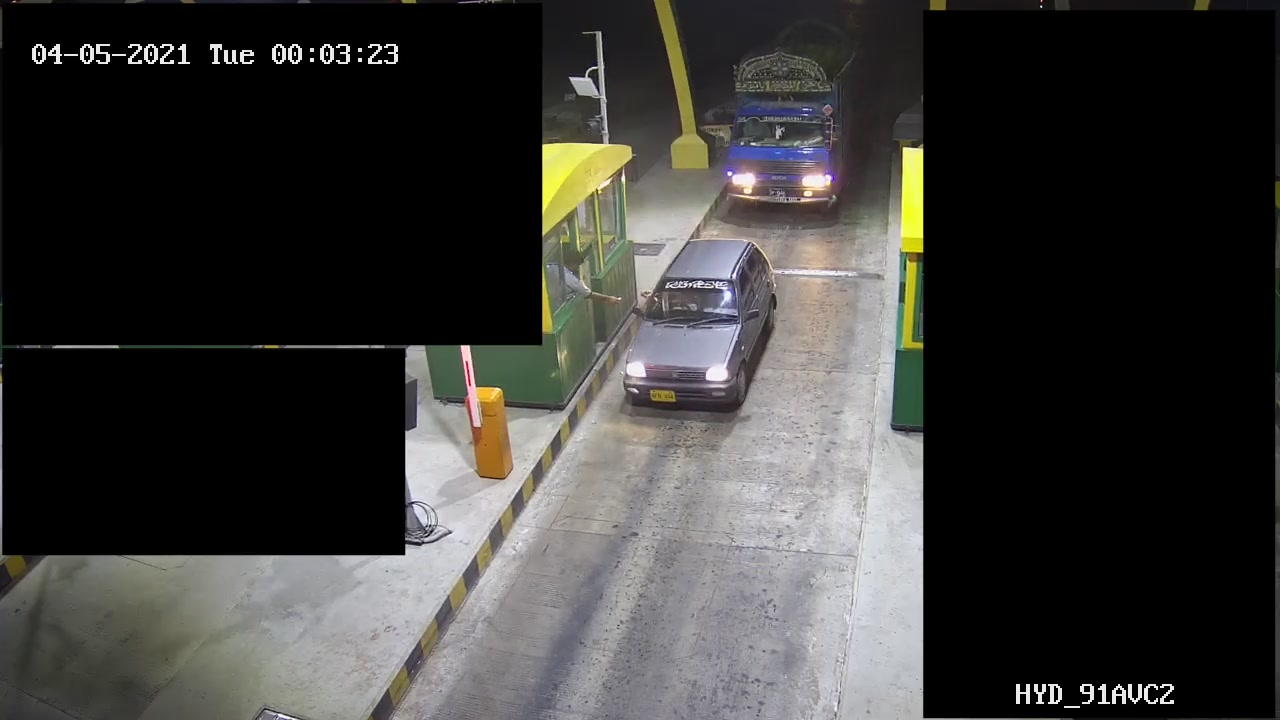F1: (608, 235, 794, 425)
F5: (724, 23, 861, 207)
